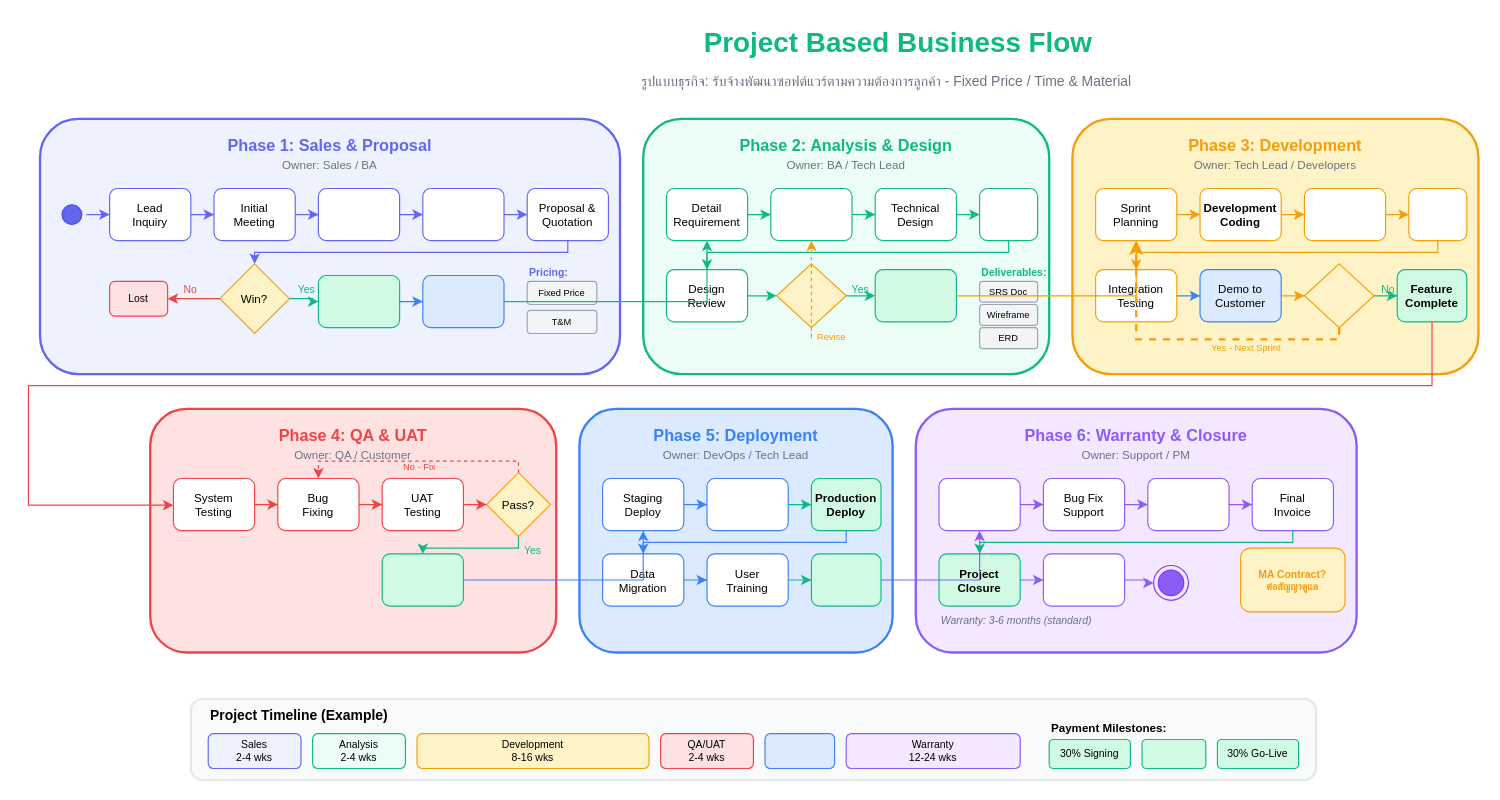
Some shapes in this 1500 by 800 pixel diagram are drawn without their labels. Each missing label, with the centre of its shape:
40% UAT: (x=1173, y=753)
Approve?: (x=810, y=295)
Code Review: (x=1344, y=214)
Contract Signing: (x=358, y=301)
Deploy 1-2 wks: (x=799, y=750)
Final Testing: (x=747, y=504)
Go-Live!: (x=845, y=579)
Kickoff Meeting: (x=463, y=301)
Knowledge Transfer: (x=1188, y=504)
Lessons Learned: (x=1083, y=579)
More Sprints?: (x=1338, y=295)
Requirement Workshop: (x=358, y=214)
Sign-off Spec: (x=915, y=295)
Solution Design: (x=463, y=214)
System Analysis: (x=811, y=214)
UAT Sign-off: (x=422, y=579)
UI/UX Design: (x=1008, y=214)
Unit Testing: (x=1437, y=214)
Warranty Period: (x=979, y=504)
